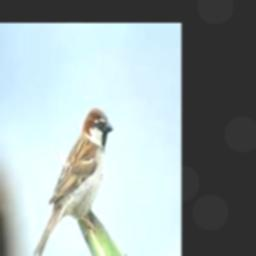Sparrow: (33, 107, 112, 256)
